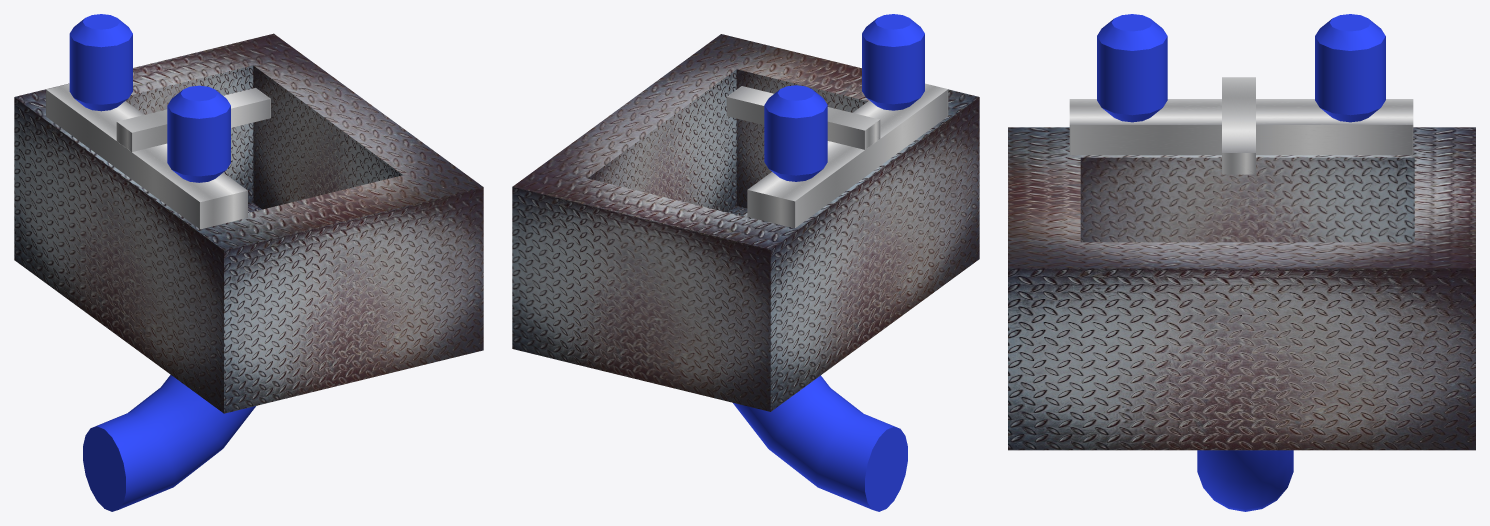
File: lavabo.obj
3 renders of one model, left to right at view 1: azimuth 30°, elevation 25°; view 2: azimuth 150°, elevation 25°; view 3: azimuth 270°, elevation 25°, orthographic. The views are drawn at different scales.
Parts seen in each view (by area): view 1: object 1, Cylinder002, Box002, ChamferCyl003, ChamferCyl002, Box003; view 2: object 1, Cylinder002, Box002, ChamferCyl003, ChamferCyl002, Box003; view 3: object 1, Box002, ChamferCyl003, ChamferCyl002, Cylinder002, Box003.
Boxes of the visible parts, box(x1,y1,x2,y2) form: object 1: box(14, 33, 483, 413); Cylinder002: box(83, 374, 255, 511); Box002: box(46, 83, 247, 229); ChamferCyl003: box(69, 14, 132, 111); ChamferCyl002: box(167, 85, 230, 182); Box003: box(116, 88, 270, 151); object 1: box(512, 34, 979, 411); Cylinder002: box(733, 375, 907, 511); Box002: box(747, 83, 948, 228); ChamferCyl003: box(764, 85, 827, 181); ChamferCyl002: box(862, 14, 924, 110); Box003: box(726, 86, 880, 149); object 1: box(1008, 127, 1475, 450); Box002: box(1069, 99, 1413, 155); ChamferCyl003: box(1315, 14, 1385, 122); ChamferCyl002: box(1097, 14, 1167, 122); Cylinder002: box(1197, 450, 1293, 511); Box003: box(1222, 77, 1255, 174).
Bounding box in the file's own units: 20.67 × 32 × 27.56.
4 materials, 4 textured.
